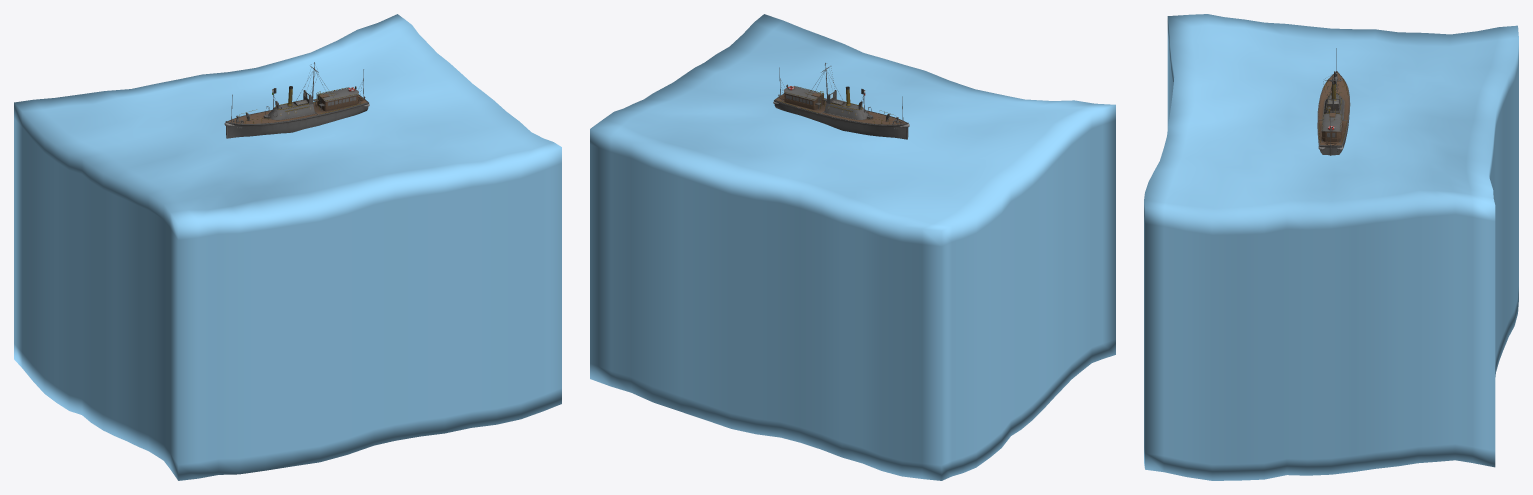
Rendered from oleo2.glb.
3 views of the same model, side by side, from view 1: azimuth 30°, elevation 25°; view 2: azimuth 150°, elevation 25°; view 3: azimuth 270°, elevation 25° (orthographic). The views are drawn at different scales.
Visible parts, largest first — view 1: ocean, 17m Motor pinnace; view 2: ocean, 17m Motor pinnace; view 3: ocean, 17m Motor pinnace.
Boxes of the visible parts, <box> form: ocean: <box>14,14,561,480</box>; 17m Motor pinnace: <box>224,62,369,138</box>; ocean: <box>590,14,1115,480</box>; 17m Motor pinnace: <box>773,63,909,139</box>; ocean: <box>1144,14,1518,480</box>; 17m Motor pinnace: <box>1317,48,1350,155</box>.
Bounding box in the file's own units: 1.24 × 1.01 × 1.04.
Materials: 3 (1 with a texture image).
